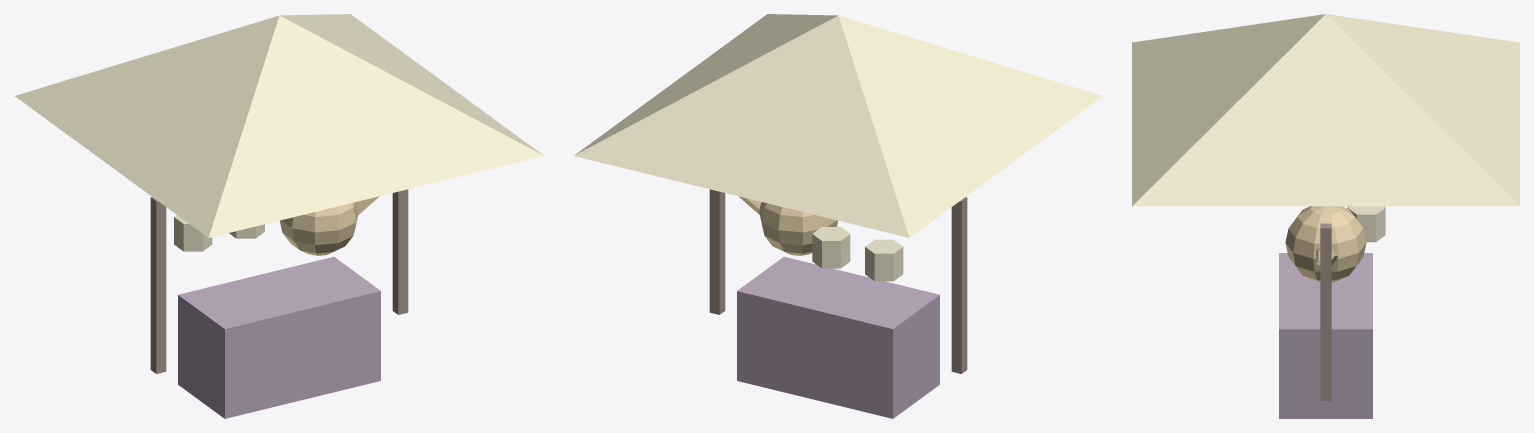
File: moonhill-star-tea-kiosk-01.glb
The picture shows the model from 3 angles, left to right: view 1: azimuth 30°, elevation 25°; view 2: azimuth 150°, elevation 25°; view 3: azimuth 270°, elevation 25°; orthographic projection.
Visible parts, largest first — view 1: StarCanopy, Counter, Post_0, Kettle, Post_1, Cup_0; view 2: StarCanopy, Counter, Post_0, Kettle, Post_1, Cup_0, Cup_1; view 3: StarCanopy, Counter, Kettle, Post_1, Cup_1.
Boxes of the visible parts, left/top/right/bottom form: StarCanopy: left=15, top=14, right=543, bottom=237; Counter: left=178, top=256, right=380, bottom=418; Post_0: left=150, top=197, right=166, bottom=373; Kettle: left=280, top=202, right=358, bottom=255; Post_1: left=392, top=189, right=408, bottom=314; Cup_0: left=174, top=215, right=212, bottom=251; StarCanopy: left=574, top=14, right=1102, bottom=237; Counter: left=737, top=256, right=939, bottom=418; Post_0: left=951, top=197, right=967, bottom=373; Kettle: left=759, top=202, right=837, bottom=255; Post_1: left=709, top=189, right=725, bottom=314; Cup_0: left=865, top=239, right=903, bottom=281; Cup_1: left=812, top=227, right=850, bottom=268; StarCanopy: left=1132, top=14, right=1519, bottom=206; Counter: left=1279, top=253, right=1372, bottom=418; Kettle: left=1285, top=206, right=1366, bottom=282; Post_1: left=1320, top=223, right=1331, bottom=400; Cup_1: left=1347, top=206, right=1385, bottom=242.
Size of the model in its own units: 1.53 by 1.59 by 1.53.
